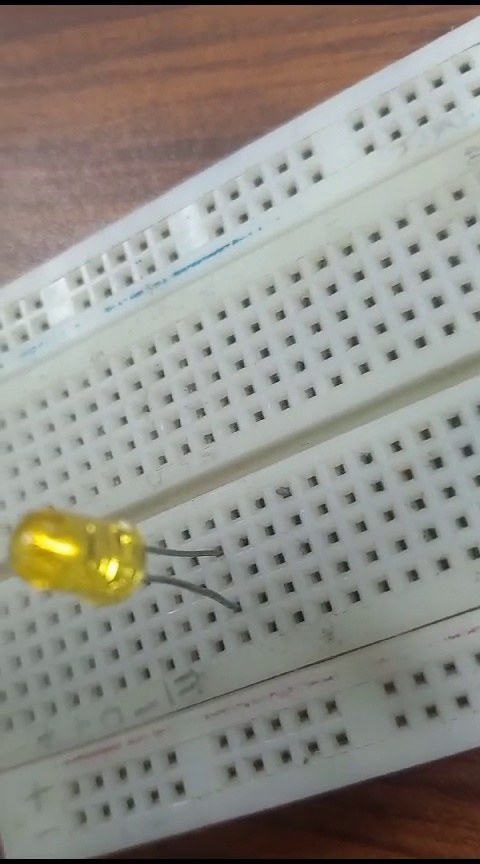LED: (24, 499, 236, 627)
